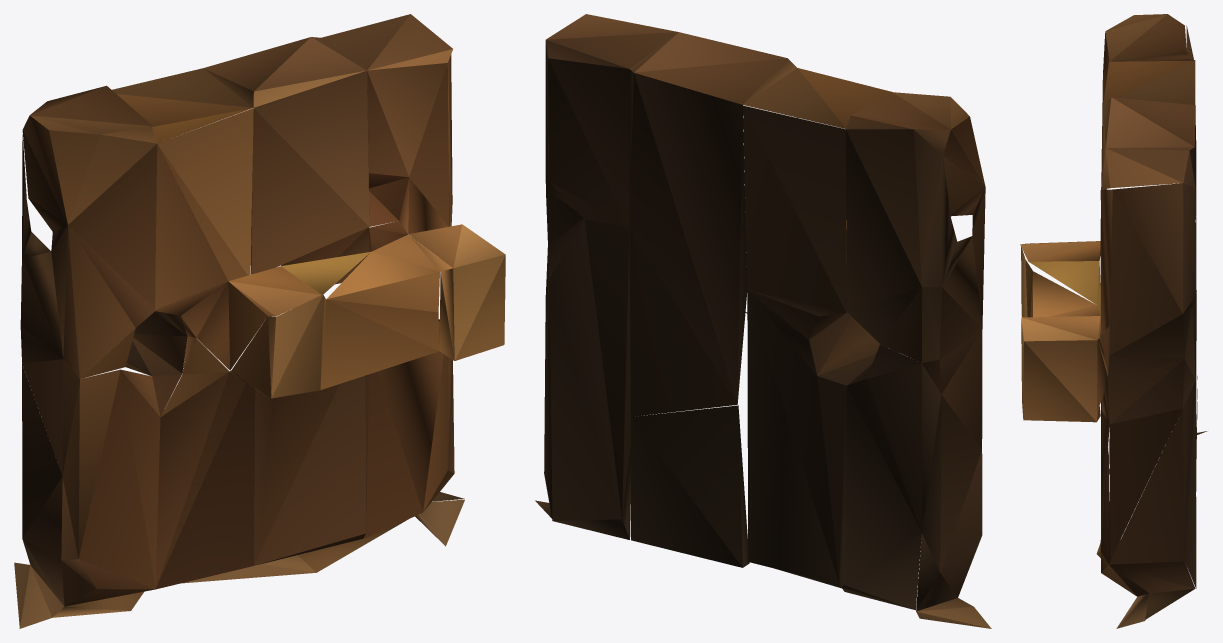
File: building-betterStove-door.glb
3 renders of one model, left to right at view 1: azimuth 30°, elevation 25°; view 2: azimuth 150°, elevation 25°; view 3: azimuth 270°, elevation 25°, orthographic. The views are drawn at different scales.
Parts seen in each view (by area): view 1: 0_door; view 2: 0_door; view 3: 0_door.
Part boxes in pixels (box(x1,y1,x2,y2)): 0_door: box(14, 14, 505, 628); 0_door: box(535, 14, 991, 628); 0_door: box(1020, 14, 1207, 628).
Size of the model in its own units: 0.5126 by 0.5532 by 0.2109.
